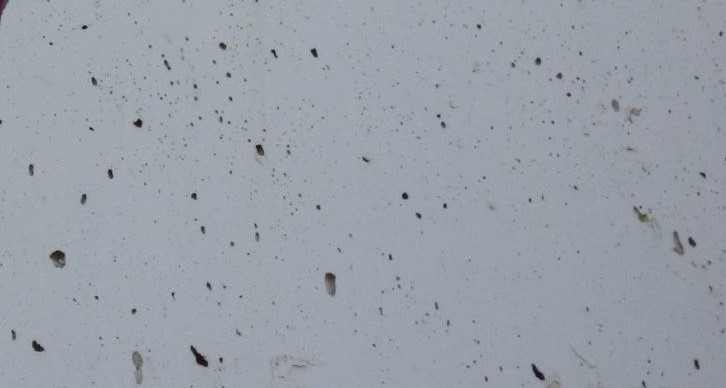Spalling: (1, 1, 726, 388)
